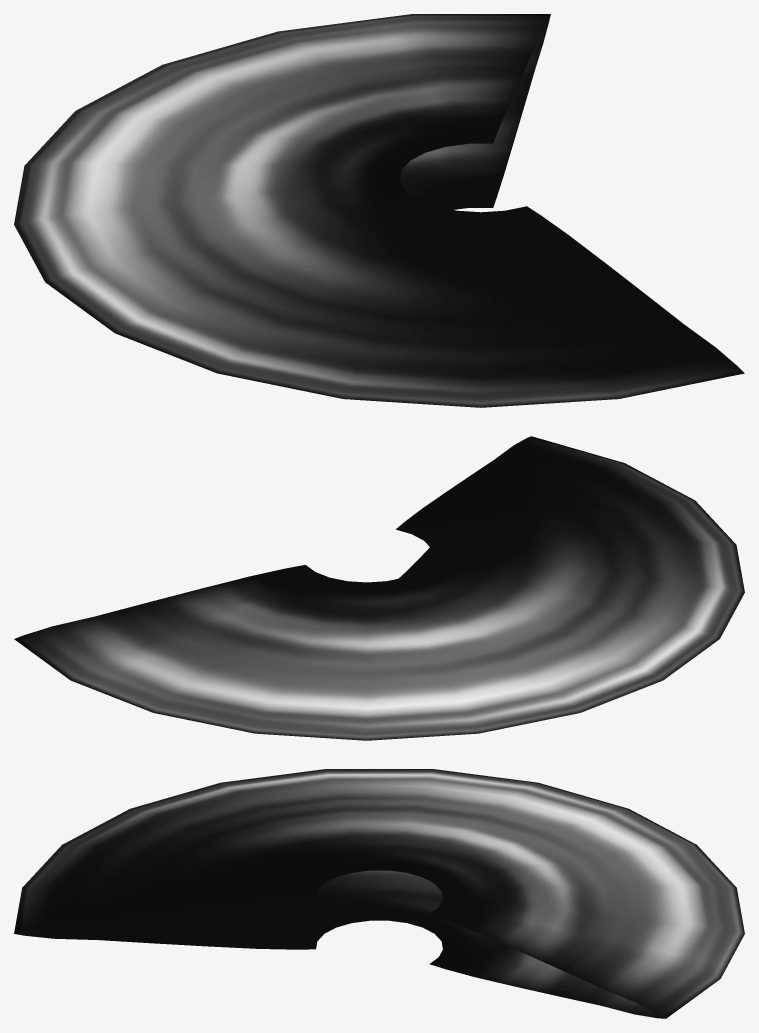
The model's file is FX_sword_Mesh.fbx.
The picture shows the model from 3 angles, top to bottom: view 1: azimuth 30°, elevation 25°; view 2: azimuth 150°, elevation 25°; view 3: azimuth 270°, elevation 25°; orthographic projection. The views are drawn at different scales.
Parts seen in each view (by area): view 1: Torus; view 2: Torus; view 3: Torus.
Boxes of the visible parts, left/top/right/bottom form: Torus: left=14, top=14, right=744, bottom=407; Torus: left=14, top=436, right=744, bottom=740; Torus: left=14, top=769, right=744, bottom=1018.
Bounding box in the file's own units: 0.4844 × 0.0454 × 0.5992.
Materials: 1 (1 with a texture image).
